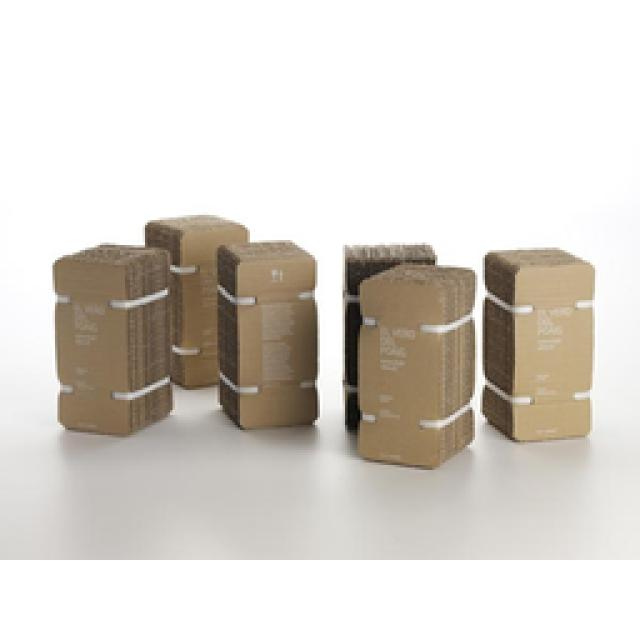cardboard: (52, 215, 315, 432), (348, 245, 472, 465), (480, 248, 592, 440)
